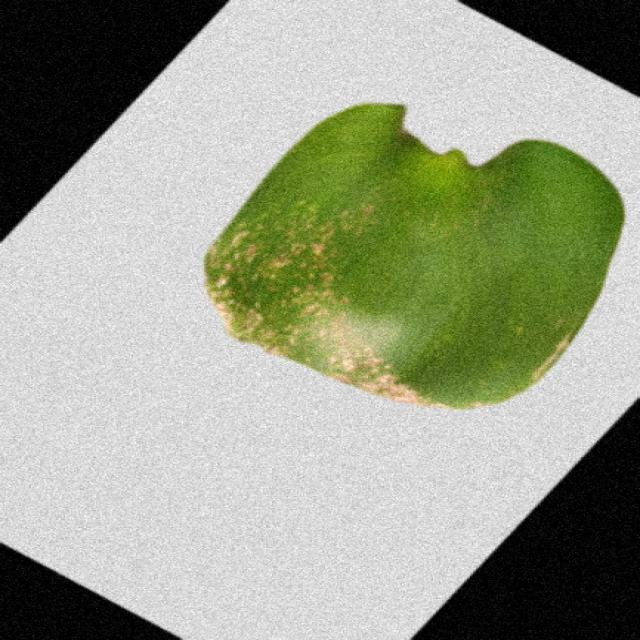daun berpenyakit bercak: (205, 105, 623, 408)
